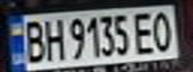1: (84, 12, 100, 57)
3: (97, 12, 118, 57)
5: (112, 11, 133, 56)
9: (66, 14, 87, 61)
B: (18, 17, 48, 64)
E: (130, 9, 160, 55)
H: (39, 16, 66, 62)
O: (148, 8, 178, 54)
